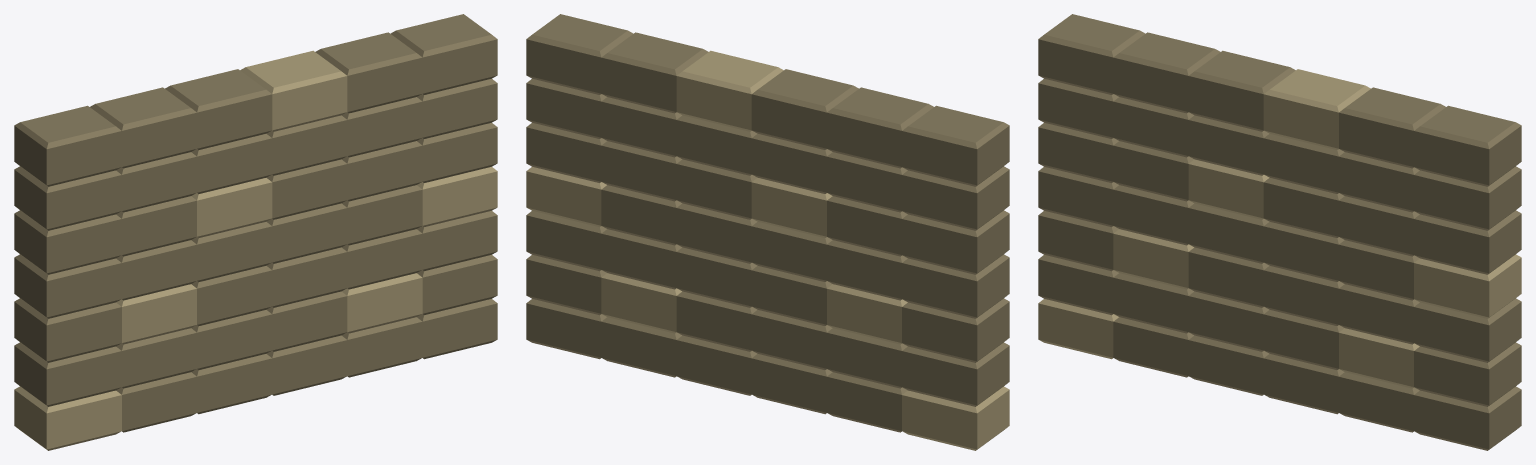
Rendered from BackWall.obj.
3 views of the same model, side by side, from view 1: azimuth 30°, elevation 25°; view 2: azimuth 150°, elevation 25°; view 3: azimuth 330°, elevation 25° (orthographic).
Parts seen in each view (by area): view 1: BackWall; view 2: BackWall; view 3: BackWall.
Part boxes in pixels (x1,y1,x2,y2): BackWall: [14, 14, 497, 450]; BackWall: [526, 14, 1009, 450]; BackWall: [1038, 14, 1521, 450].
Size of the model in its own units: 14.4 by 9.4 by 1.8.
